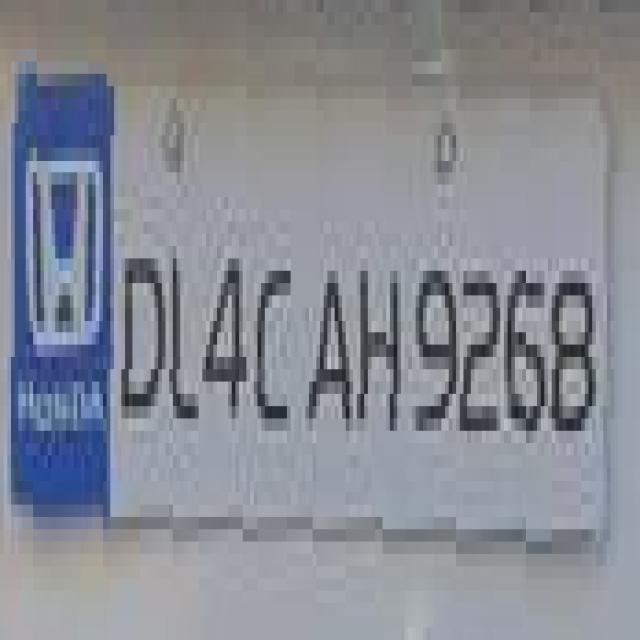license_plate: (29, 37, 640, 554)
